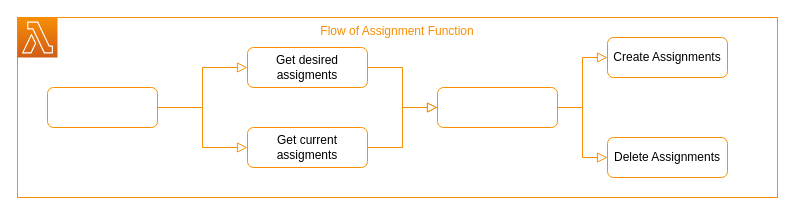
The diagram is 795 pixels wide and 215 high, and some of its shapes have lost their labels. The centre of each missing label's shape, as x and y in pixels:
Diff of current and desired assignments: (497,107)
Load assignment configuration: (102,107)
